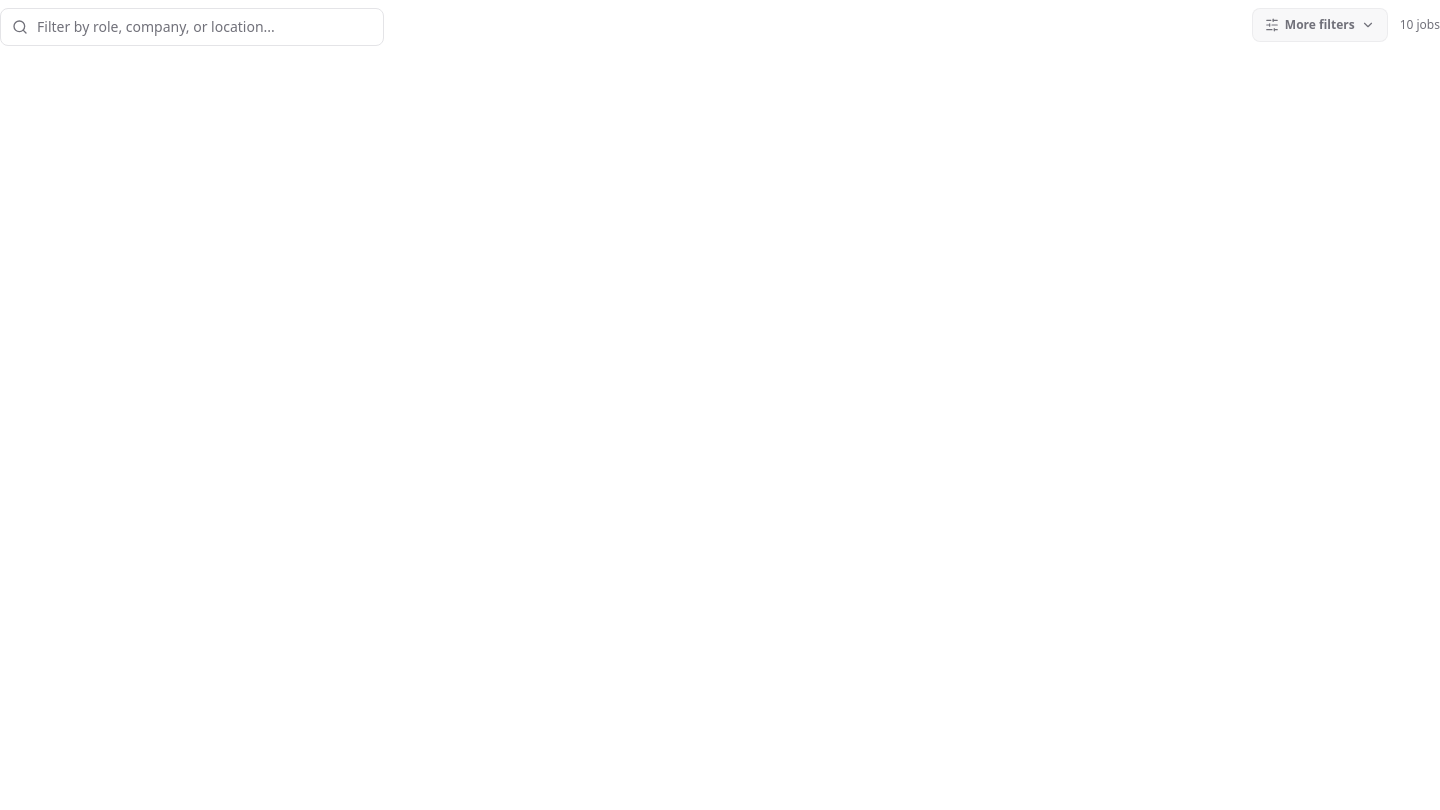
Scenario: JobFilters component › opens the filters drawer and selects a status option
The width and height of the screenshot is (1440, 810).
Later steps or results of the test are not shown.
// Open drawer
Click the button "More filters". click: (1320, 25)
box: [1252,8,1388,42]
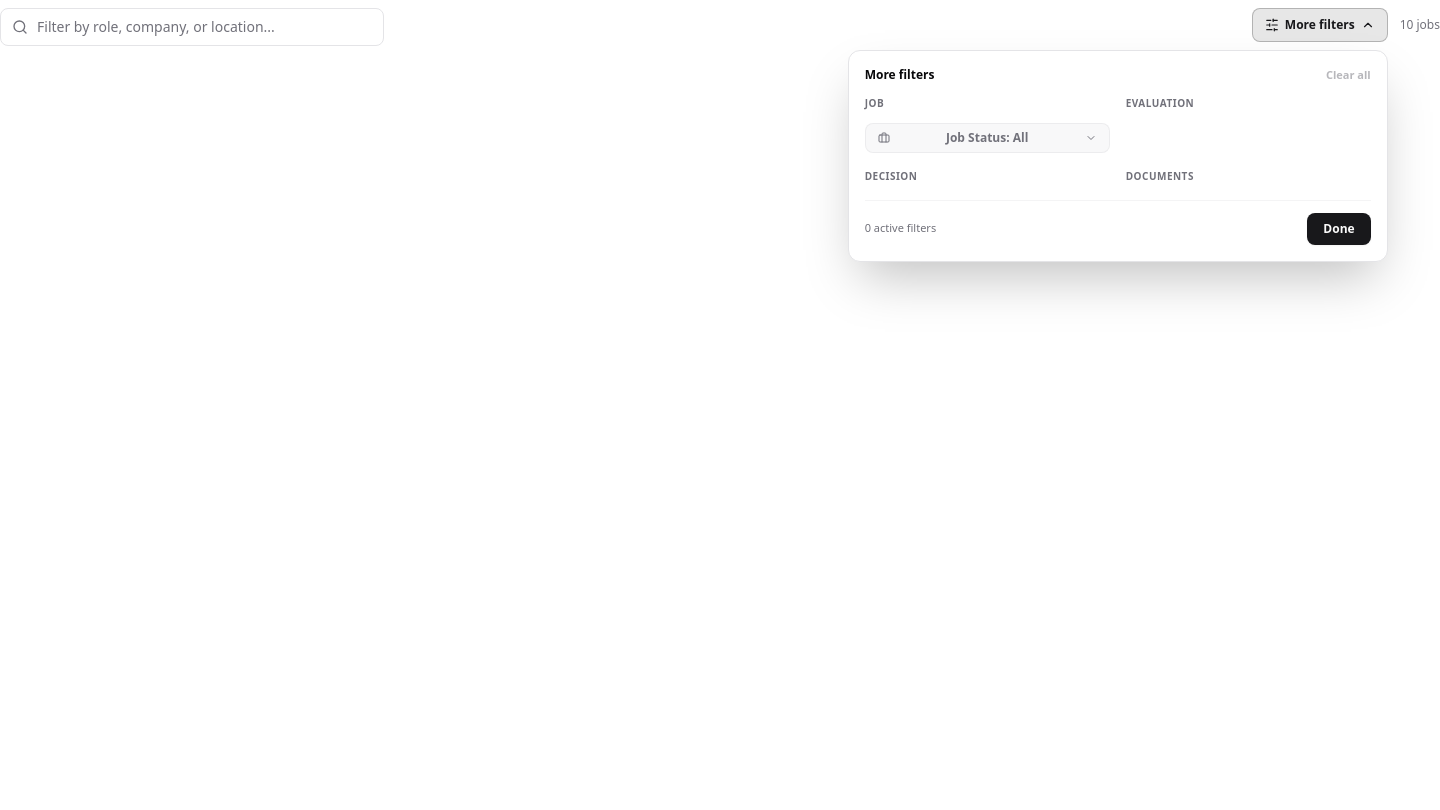
Expected: the dialog "filters" is shown, [848,50,1388,262]
// Status dropdown lives inside the drawer
Click the button "Job Status: All". click: (987, 138)
box: [866,124,1109,152]
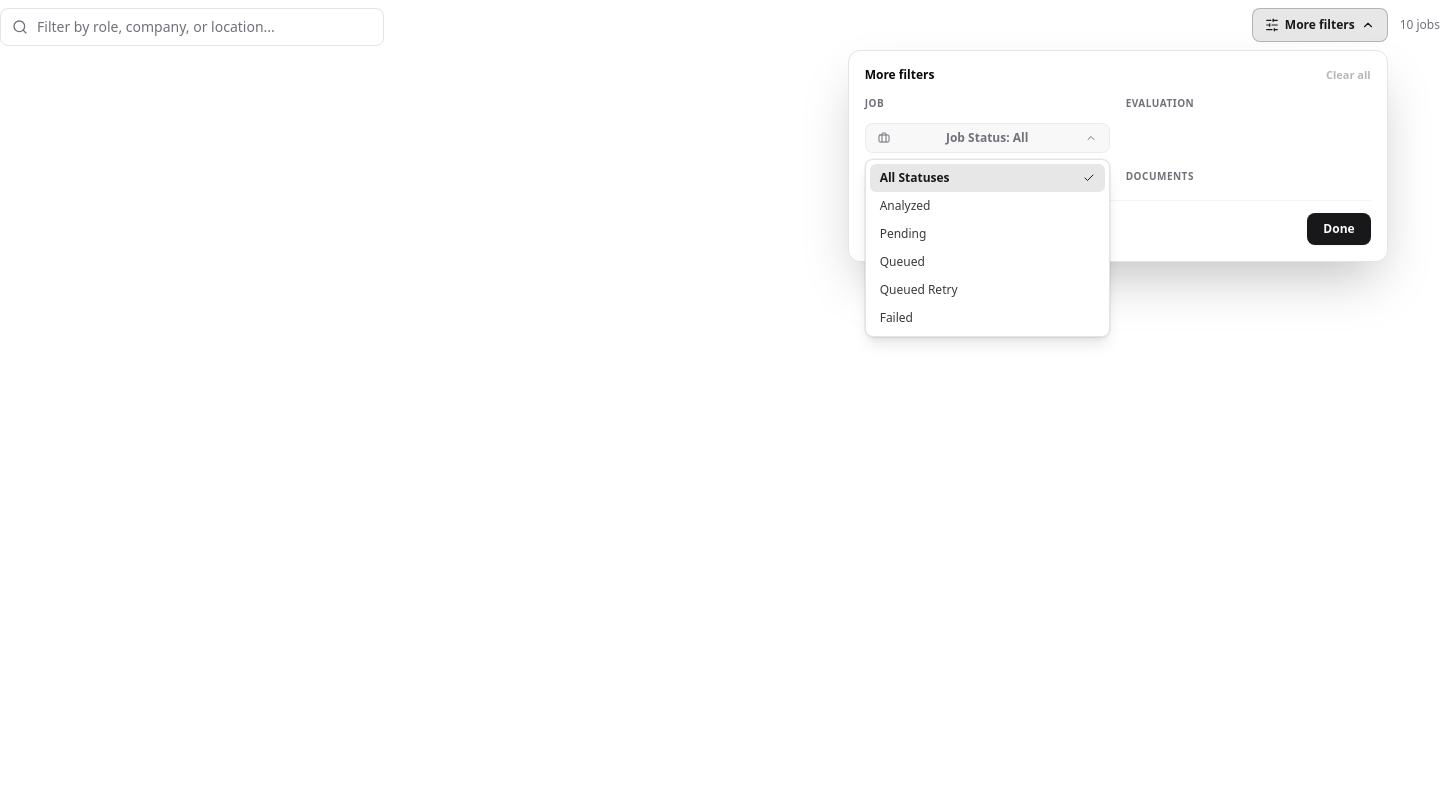
Expected: the list "All Statuses Analyzed Pending Queued Queued Retry Failed" is shown, [865,158,1110,336]
Expected: the option "Analyzed" is shown, [870,192,1105,220]
Expected: the option "Pending" is shown, [870,220,1105,248]
